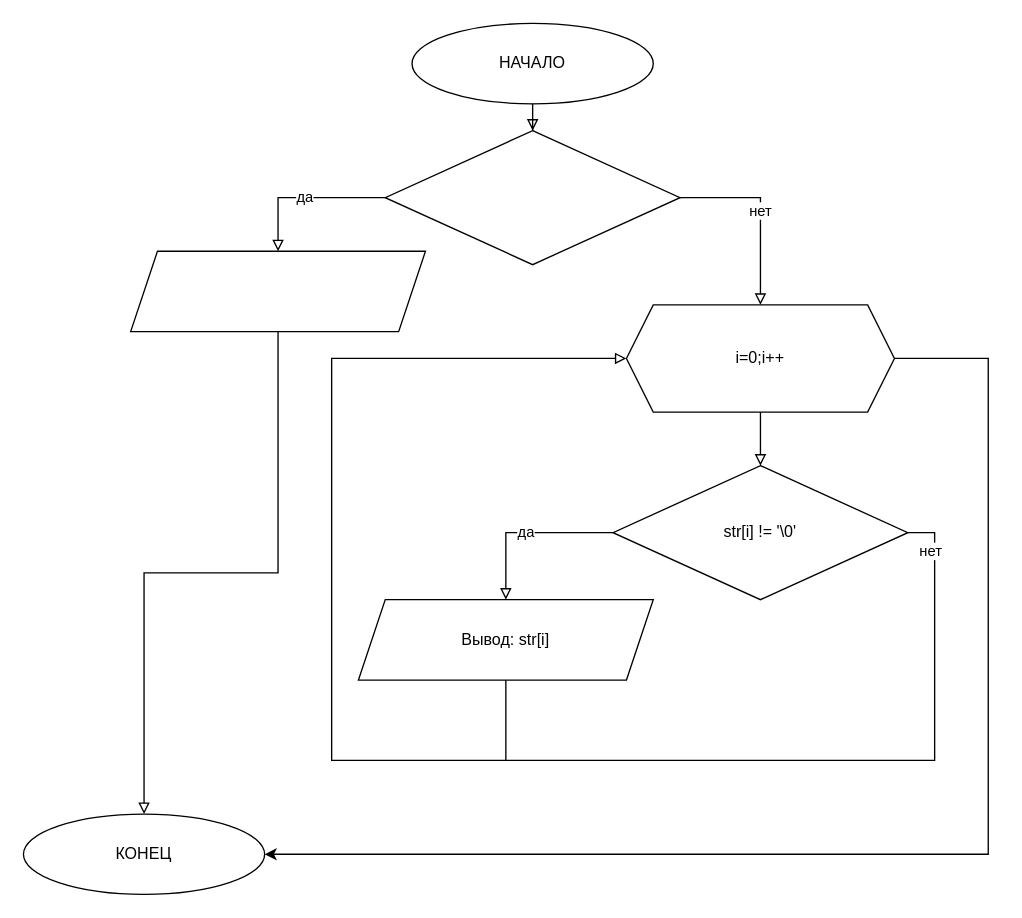
This 1022x918 diagram has some shape labels left out. The shapes that lost their labels are listed below. From the top down, each one's centre as x and y in pixels, then its label:
(x=532, y=197): str == nullptr
(x=277, y=291): Вывод: "(null)"
